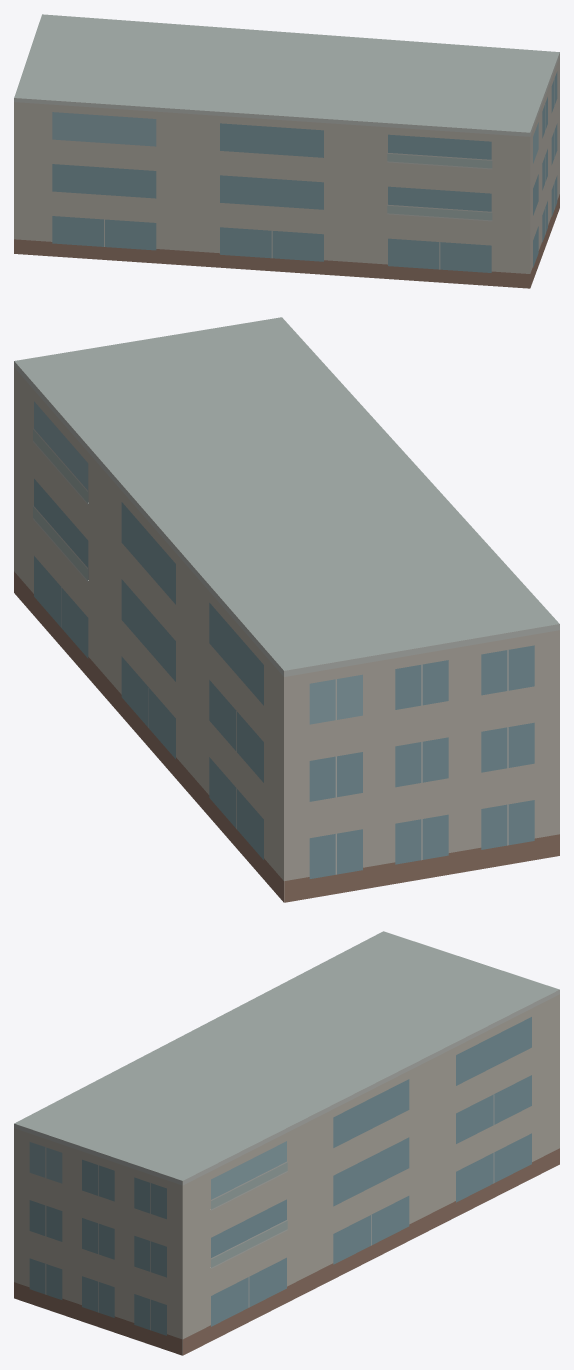
The model's file is survey-upis-32763338.glb.
3 renders of one model, top to bottom at view 1: azimuth 30°, elevation 25°; view 2: azimuth 150°, elevation 25°; view 3: azimuth 270°, elevation 25°, orthographic. The views are drawn at different scales.
Visible parts, largest first — view 1: survey-upis-32763338.tmp; view 2: survey-upis-32763338.tmp; view 3: survey-upis-32763338.tmp.
Part boxes in pixels (x1,y1,x2,y2): survey-upis-32763338.tmp: [14, 14, 559, 288]; survey-upis-32763338.tmp: [14, 317, 559, 902]; survey-upis-32763338.tmp: [14, 931, 559, 1355].
Bounding box in the file's own units: 28.04 × 9.15 × 25.9.
